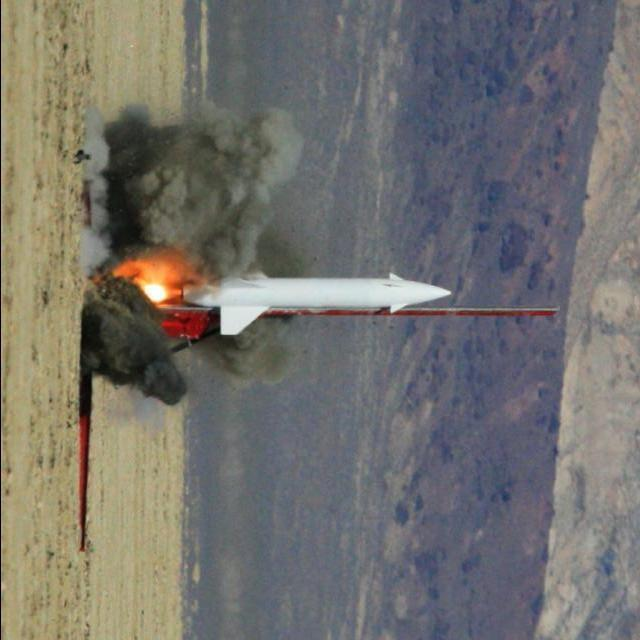missile: (174, 243, 453, 351)
